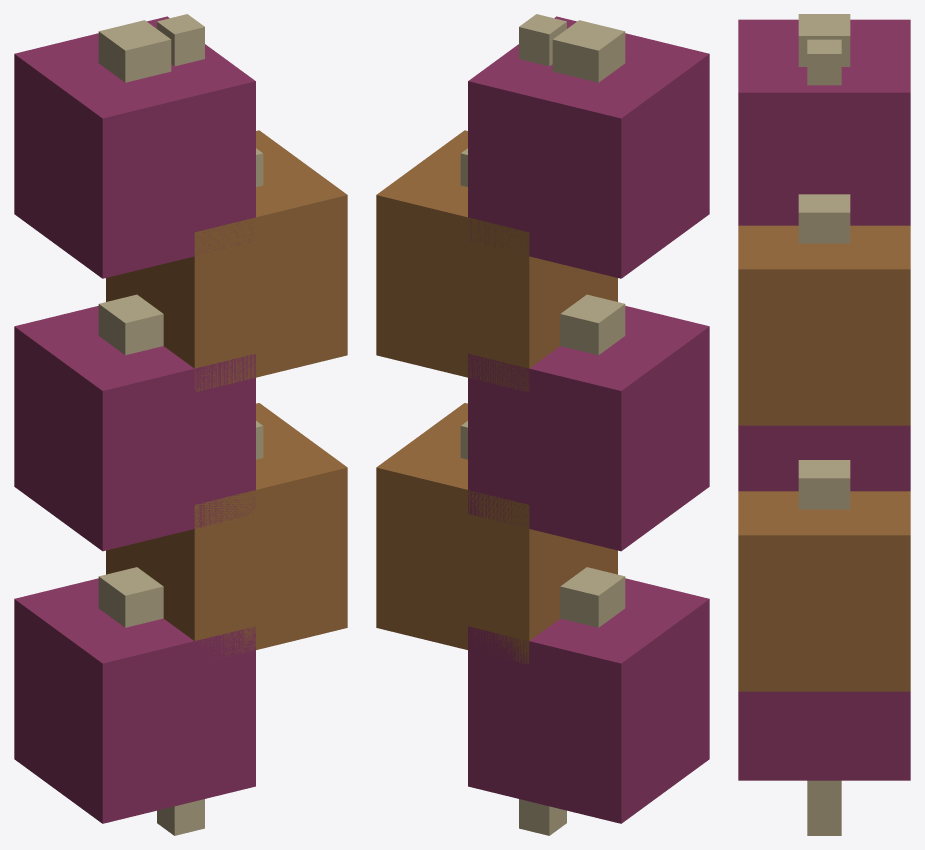
Rendered from cp-string-onion.glb.
3 views of the same model, side by side, from view 1: azimuth 30°, elevation 25°; view 2: azimuth 150°, elevation 25°; view 3: azimuth 270°, elevation 25° (orthographic). The views are drawn at different scales.
Visible parts, largest first — view 1: box-prop; view 2: box-prop; view 3: box-prop.
Boxes of the visible parts, x1,y1,x2,y2 form: box-prop: [14, 14, 347, 835]; box-prop: [376, 14, 709, 835]; box-prop: [738, 14, 910, 835].
Bounding box in the file's own units: 0.32 × 1 × 0.2.
